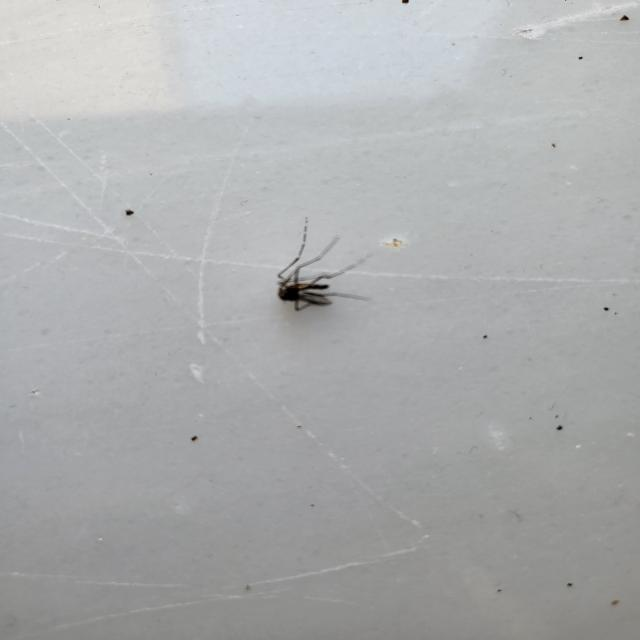aegypti: (257, 215, 375, 316)
